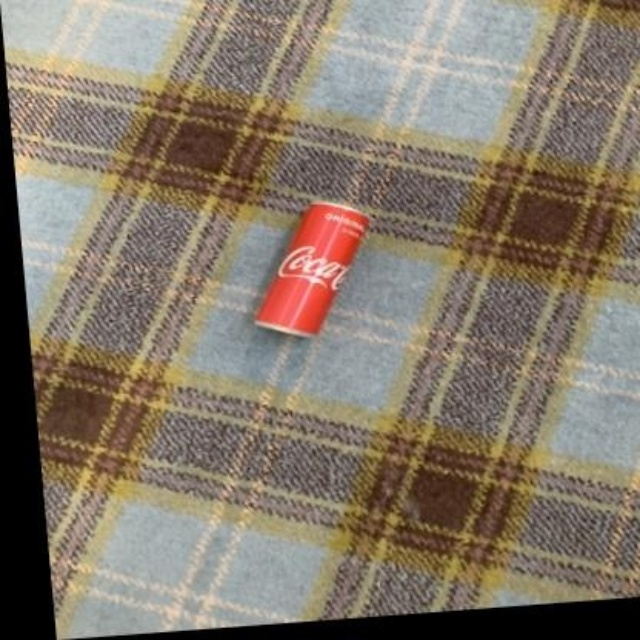trash: (255, 202, 368, 335)
